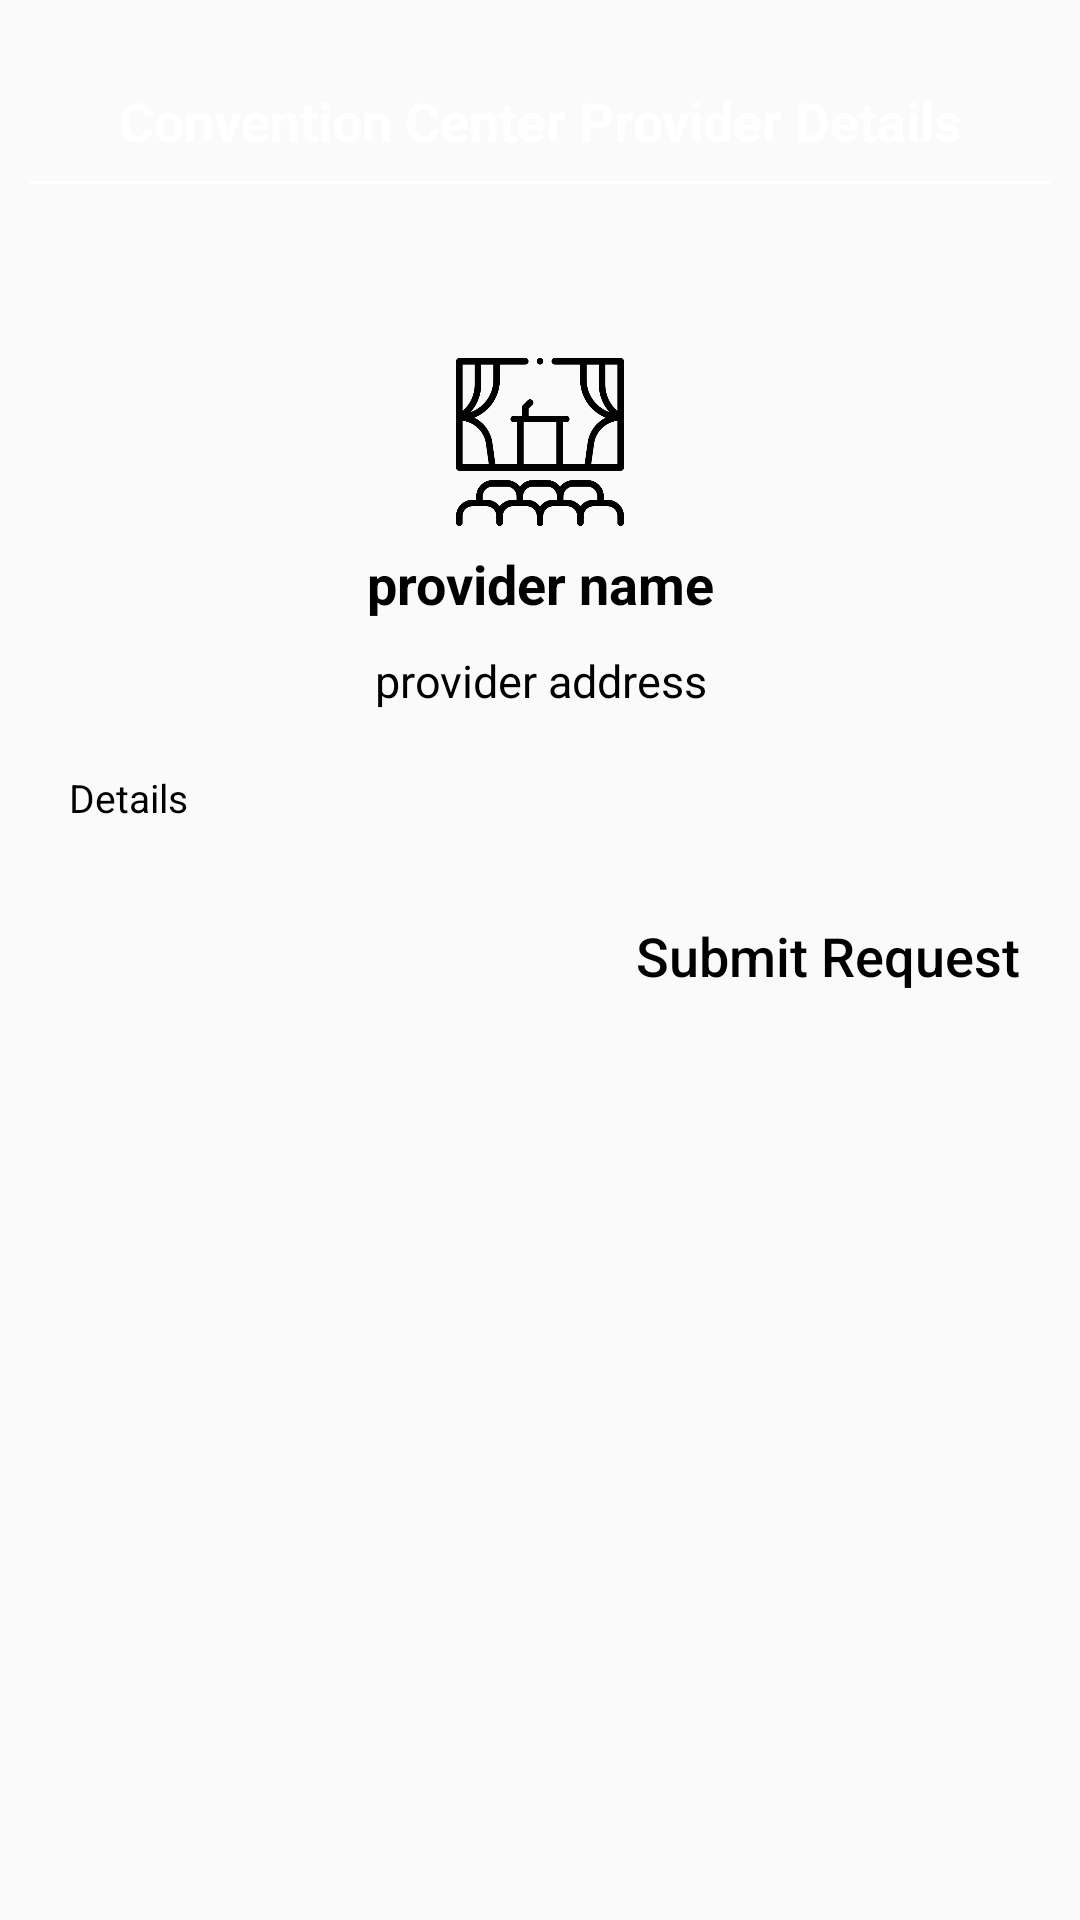

Screen size 1080*1920. Icon name, then its center in pixels as (x,y):
convention: (540,442)
